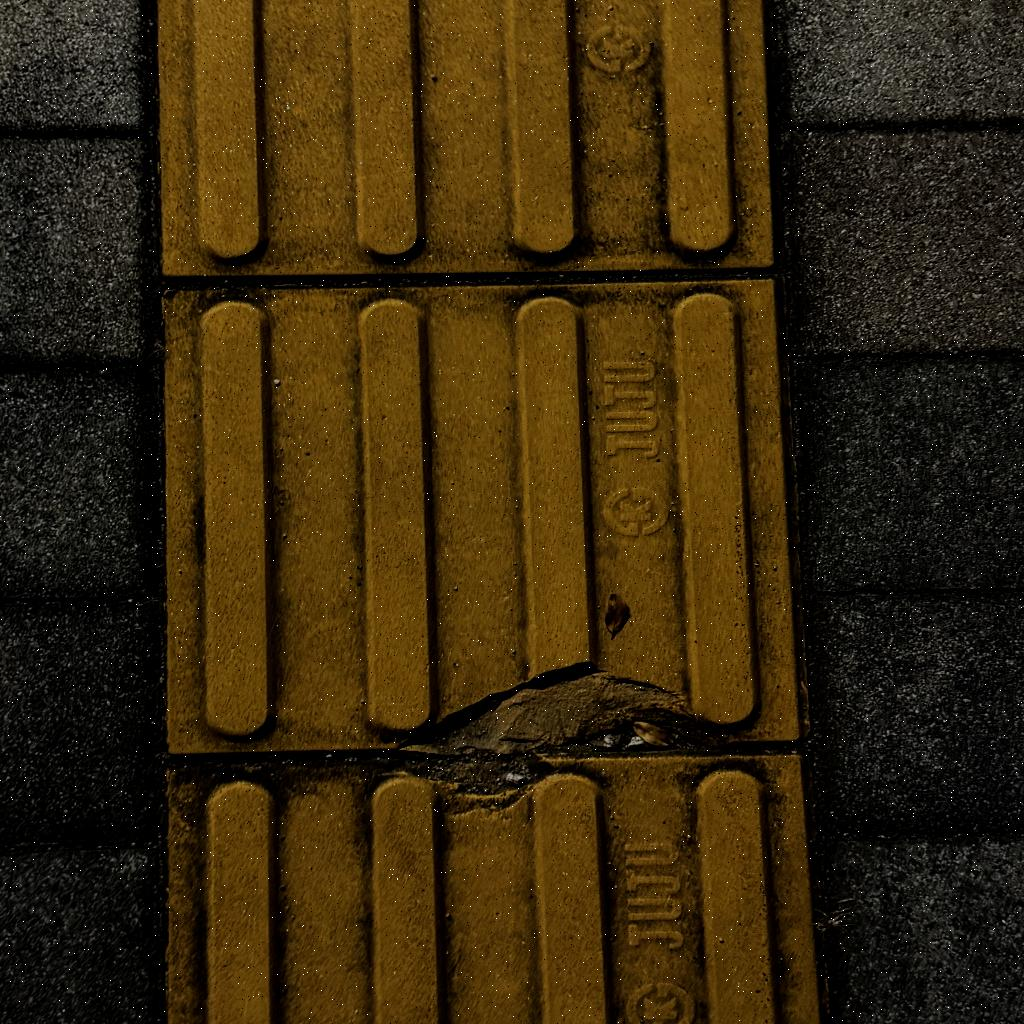Straight block broken: (166, 279, 796, 750)
